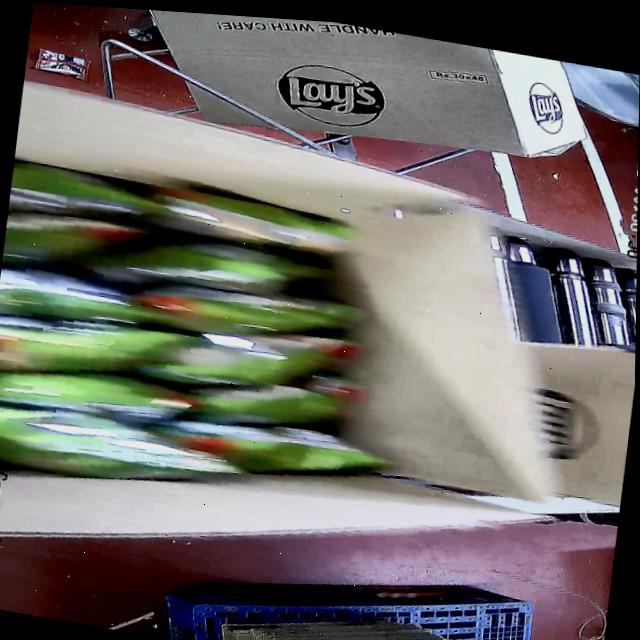YOGURT_HERB: (0, 157, 362, 523)
